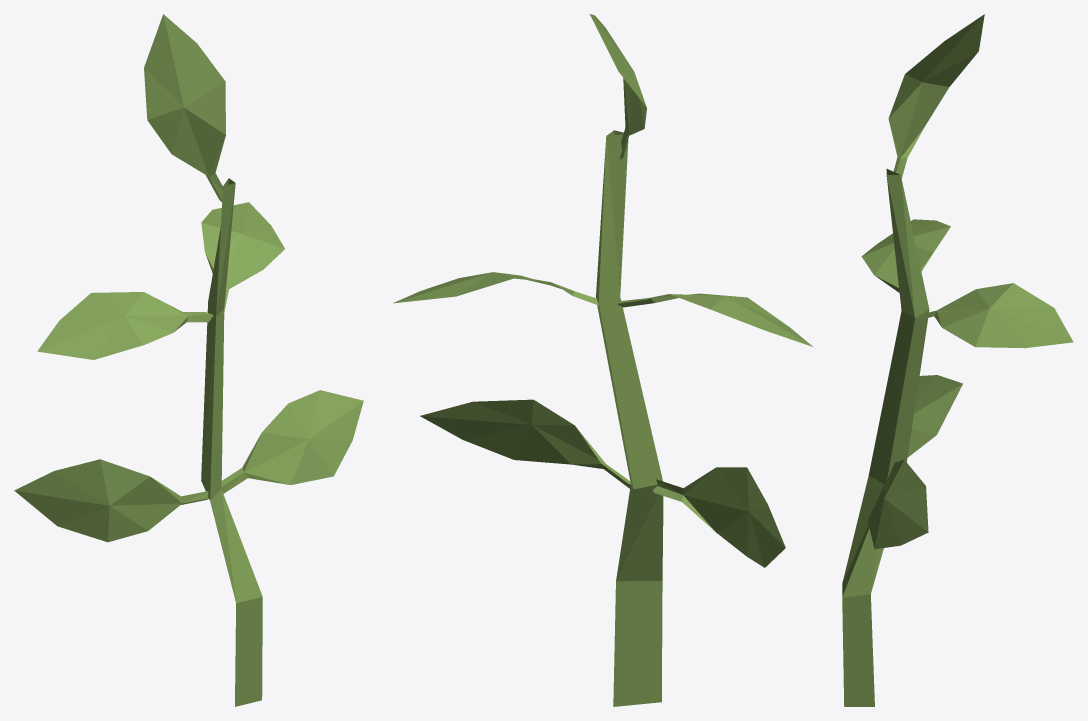
The model's file is Apple_1_1.fbx.
3 views of the same model, side by side, from view 1: azimuth 30°, elevation 25°; view 2: azimuth 150°, elevation 25°; view 3: azimuth 270°, elevation 25° (orthographic). The views are drawn at different scales.
Parts seen in each view (by area): view 1: Apple_1_1; view 2: Apple_1_1; view 3: Apple_1_1.
Part boxes in pixels (x1,y1,x2,y2): Apple_1_1: [14, 14, 363, 706]; Apple_1_1: [393, 14, 812, 706]; Apple_1_1: [842, 14, 1073, 706].
Size of the model in its own units: 58.21 by 108 by 33.34.
